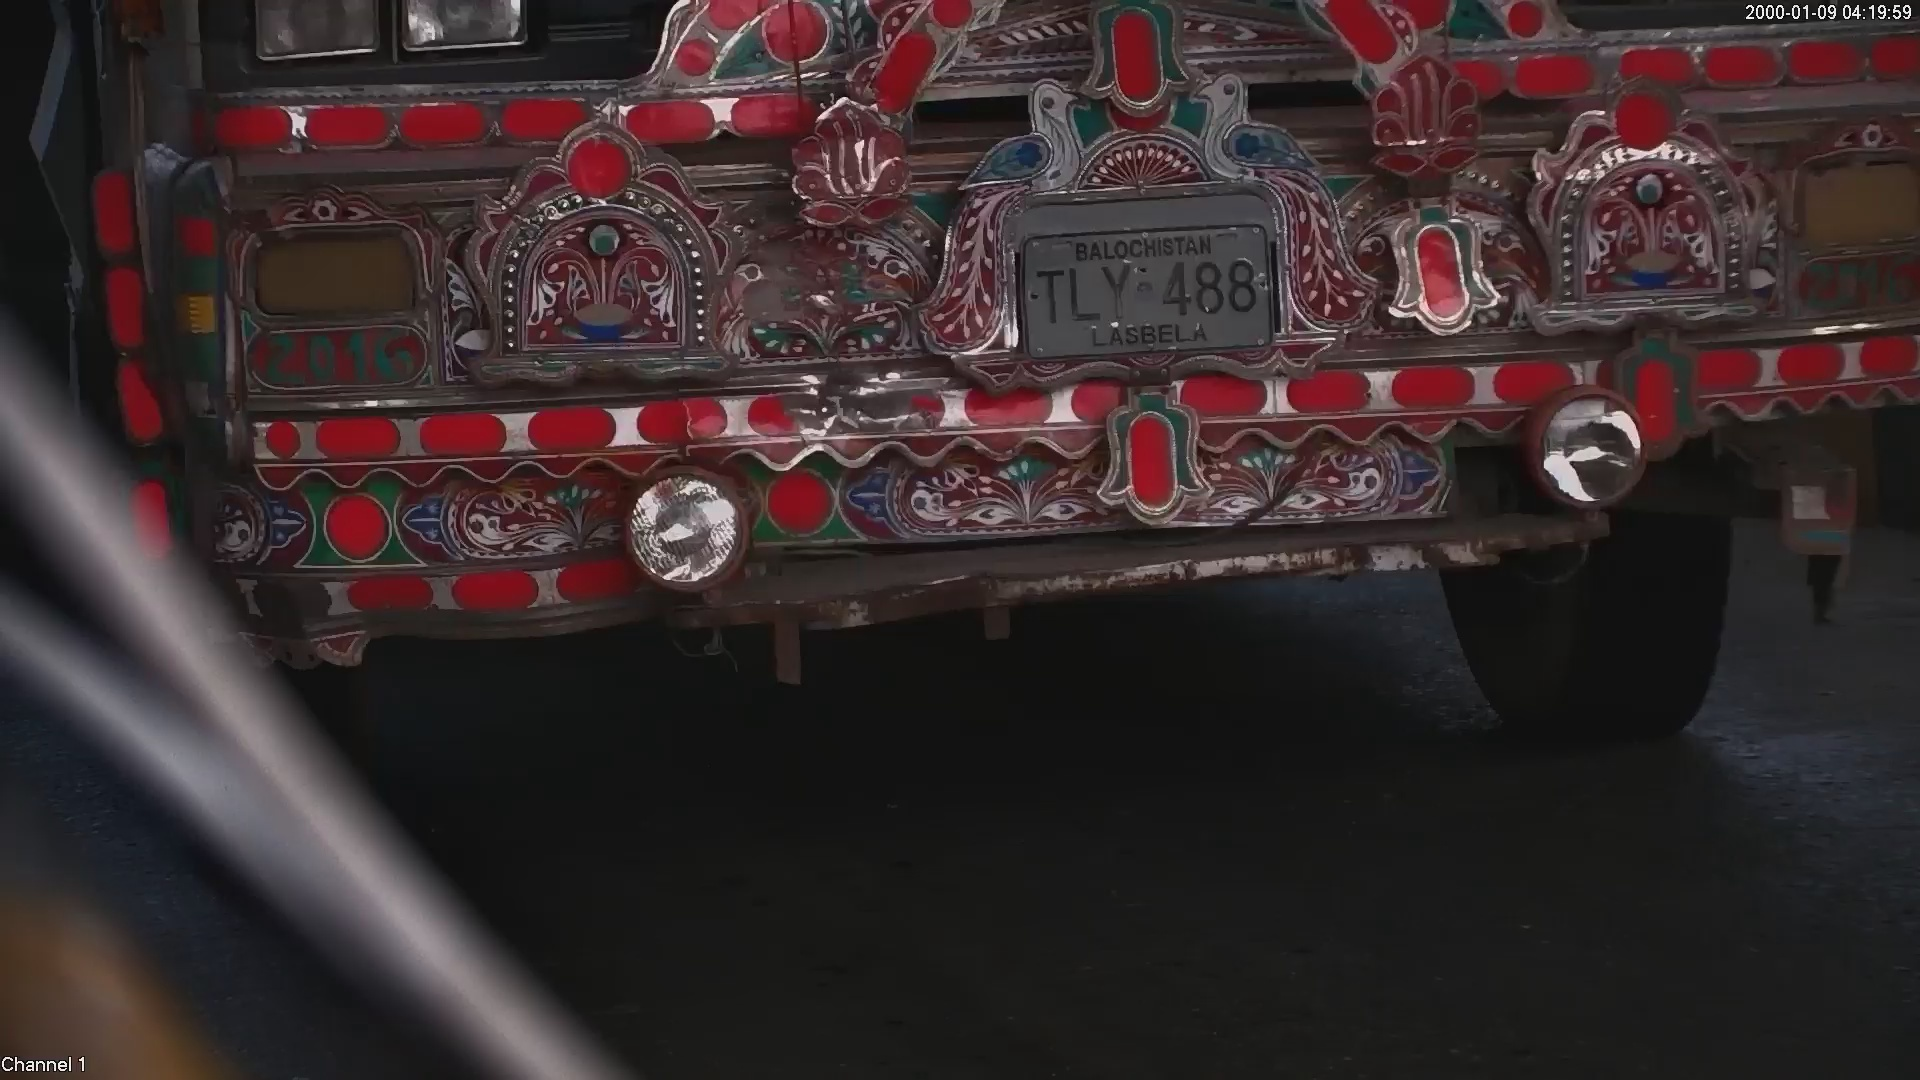Number_Plate: (965, 179, 1323, 383)
Undefined: (217, 299, 460, 414)
